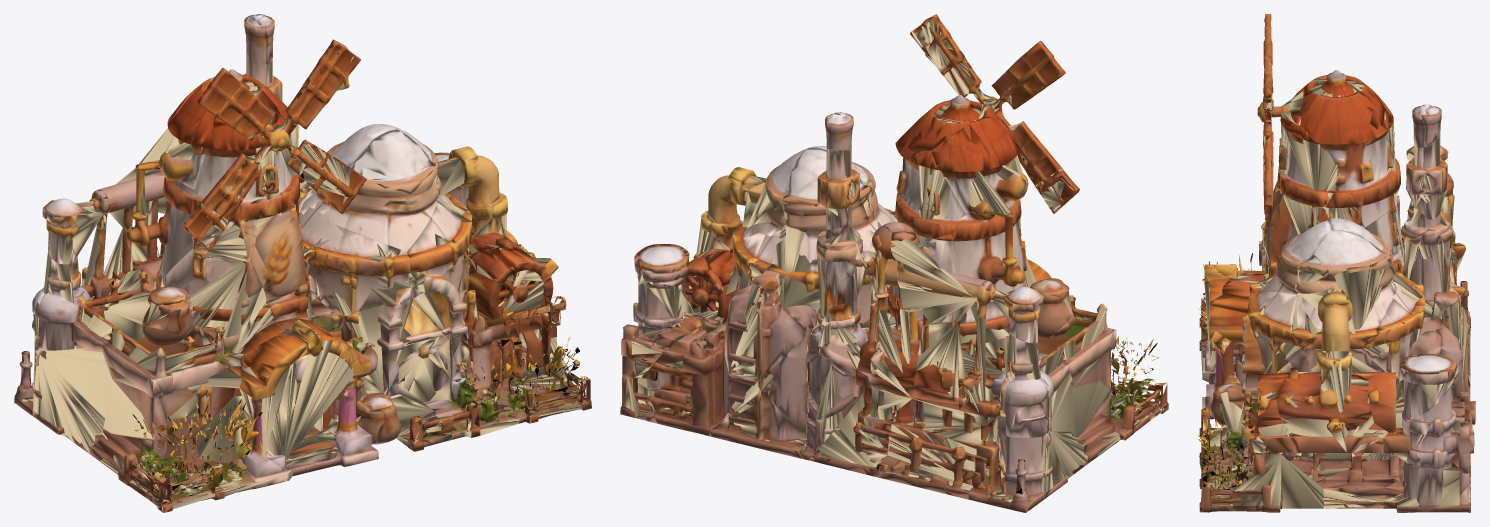
Rendered from HOB_BLD_WheatMill_Fractured.fbx.
The picture shows the model from 3 angles, left to right: view 1: azimuth 30°, elevation 25°; view 2: azimuth 150°, elevation 25°; view 3: azimuth 270°, elevation 25°; orthographic projection. The views are drawn at different scales.
Visible parts, largest first — view 1: HOB_BLD_WheatMill_Frag_22, HOB_BLD_WheatMill_Frag_01, HOB_BLD_WheatMill_Frag_56, HOB_BLD_WheatMill_Frag_50, HOB_BLD_WheatMill_Frag_03, HOB_BLD_WheatMill_Frag_54, HOB_BLD_WheatMill_Frag_57, HOB_BLD_WheatMill_Frag_15, HOB_BLD_WheatMill_Frag_51, HOB_BLD_WheatMill_Frag_23, HOB_BLD_WheatMill_Frag_39, HOB_BLD_WheatMill_Frag_26 (+27 smaller); view 2: HOB_BLD_WheatMill_Frag_55, HOB_BLD_WheatMill_Frag_51, HOB_BLD_WheatMill_Frag_45, HOB_BLD_WheatMill_Frag_07, HOB_BLD_WheatMill_Frag_12, HOB_BLD_WheatMill_Frag_25, HOB_BLD_WheatMill_Frag_37, HOB_BLD_WheatMill_Frag_53, HOB_BLD_WheatMill_Frag_33, HOB_BLD_WheatMill_Frag_35, HOB_BLD_WheatMill_Frag_16, HOB_BLD_WheatMill_Frag_34 (+30 smaller); view 3: HOB_BLD_WheatMill_Frag_32, HOB_BLD_WheatMill_Frag_30, HOB_BLD_WheatMill_Frag_52, HOB_BLD_WheatMill_Frag_34, HOB_BLD_WheatMill_Frag_47, HOB_BLD_WheatMill_Frag_28, HOB_BLD_WheatMill_Frag_31, HOB_BLD_WheatMill_Frag_39, HOB_BLD_WheatMill_Frag_19, HOB_BLD_WheatMill_Frag_42, HOB_BLD_WheatMill_Frag_40, HOB_BLD_WheatMill_Frag_48 (+27 smaller).
Boxes of the visible parts, x1=… form: HOB_BLD_WheatMill_Frag_22: x1=229, y1=328, x2=353, y2=467; HOB_BLD_WheatMill_Frag_01: x1=102, y1=326, x2=244, y2=439; HOB_BLD_WheatMill_Frag_56: x1=142, y1=249, x2=285, y2=353; HOB_BLD_WheatMill_Frag_50: x1=321, y1=130, x2=438, y2=251; HOB_BLD_WheatMill_Frag_03: x1=460, y1=246, x2=566, y2=352; HOB_BLD_WheatMill_Frag_54: x1=305, y1=219, x2=412, y2=347; HOB_BLD_WheatMill_Frag_57: x1=195, y1=124, x2=284, y2=237; HOB_BLD_WheatMill_Frag_15: x1=330, y1=298, x2=444, y2=395; HOB_BLD_WheatMill_Frag_51: x1=32, y1=224, x2=112, y2=352; HOB_BLD_WheatMill_Frag_23: x1=32, y1=349, x2=111, y2=453; HOB_BLD_WheatMill_Frag_39: x1=407, y1=202, x2=474, y2=339; HOB_BLD_WheatMill_Frag_26: x1=251, y1=200, x2=332, y2=336; HOB_BLD_WheatMill_Frag_55: x1=816, y1=298, x2=922, y2=411; HOB_BLD_WheatMill_Frag_51: x1=961, y1=316, x2=1069, y2=437; HOB_BLD_WheatMill_Frag_45: x1=931, y1=117, x2=1028, y2=217; HOB_BLD_WheatMill_Frag_07: x1=641, y1=322, x2=731, y2=435; HOB_BLD_WheatMill_Frag_12: x1=757, y1=334, x2=863, y2=460; HOB_BLD_WheatMill_Frag_25: x1=913, y1=301, x2=1071, y2=405; HOB_BLD_WheatMill_Frag_37: x1=696, y1=279, x2=807, y2=381; HOB_BLD_WheatMill_Frag_53: x1=890, y1=232, x2=986, y2=325; HOB_BLD_WheatMill_Frag_33: x1=879, y1=420, x2=987, y2=499; HOB_BLD_WheatMill_Frag_35: x1=816, y1=221, x2=903, y2=310; HOB_BLD_WheatMill_Frag_16: x1=754, y1=226, x2=863, y2=335; HOB_BLD_WheatMill_Frag_34: x1=621, y1=281, x2=707, y2=377; HOB_BLD_WheatMill_Frag_32: x1=1268, y1=349, x2=1373, y2=453; HOB_BLD_WheatMill_Frag_30: x1=1313, y1=230, x2=1396, y2=349; HOB_BLD_WheatMill_Frag_52: x1=1300, y1=70, x2=1384, y2=167; HOB_BLD_WheatMill_Frag_34: x1=1383, y1=381, x2=1474, y2=473; HOB_BLD_WheatMill_Frag_47: x1=1263, y1=125, x2=1339, y2=220; HOB_BLD_WheatMill_Frag_28: x1=1368, y1=354, x2=1459, y2=438; HOB_BLD_WheatMill_Frag_31: x1=1290, y1=254, x2=1353, y2=351; HOB_BLD_WheatMill_Frag_39: x1=1242, y1=292, x2=1303, y2=393; HOB_BLD_WheatMill_Frag_19: x1=1232, y1=453, x2=1323, y2=512; HOB_BLD_WheatMill_Frag_42: x1=1310, y1=453, x2=1403, y2=508; HOB_BLD_WheatMill_Frag_40: x1=1334, y1=108, x2=1400, y2=227; HOB_BLD_WheatMill_Frag_48: x1=1360, y1=288, x2=1441, y2=382.
Bounding box in the file's own units: 5566 × 4768 × 3383.
